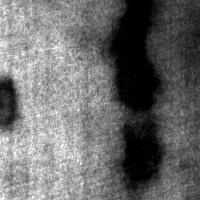patches: (115, 0, 200, 85), (109, 1, 160, 111), (120, 117, 163, 186), (1, 73, 21, 132)
